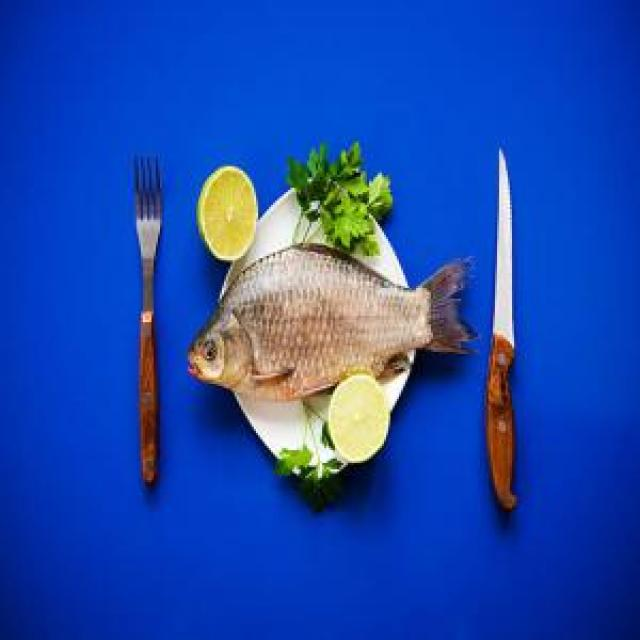knife: (480, 122, 525, 530), (510, 66, 511, 67)
